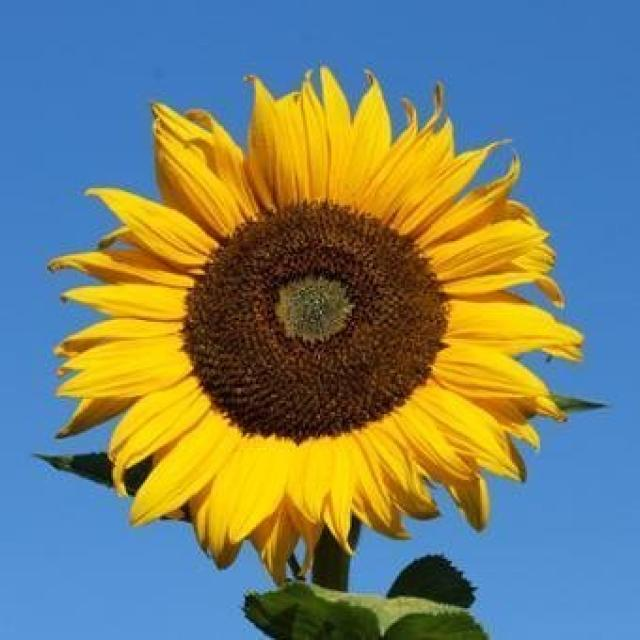sunflower: (44, 51, 598, 595)
